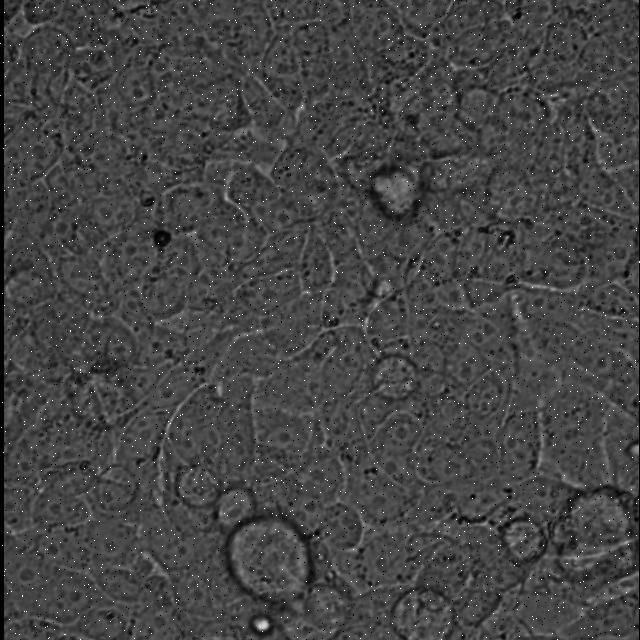microbeads: (152, 230, 172, 247)
